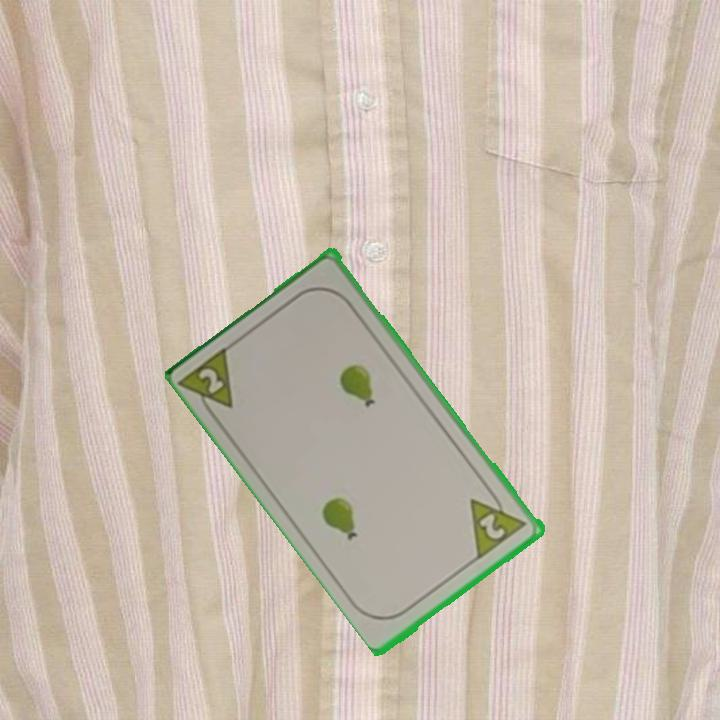2p: (466, 483, 530, 561), (178, 341, 237, 425)
